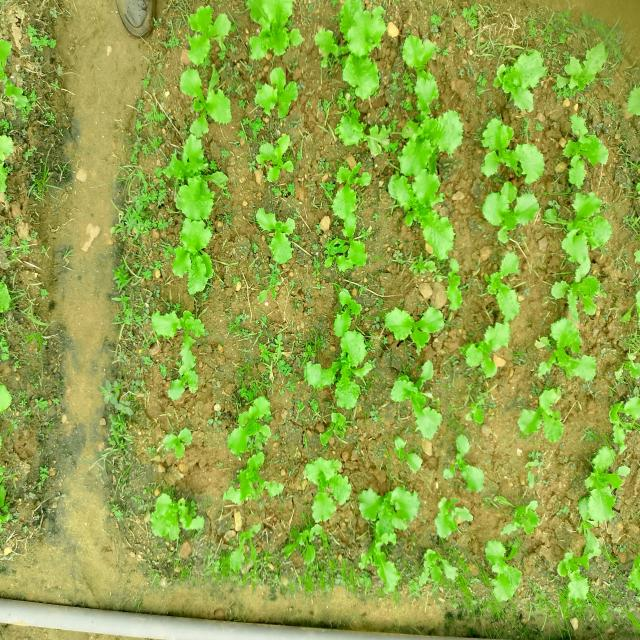Lettuce: (473, 114, 544, 183), (528, 312, 596, 383), (546, 254, 606, 324), (475, 178, 540, 242), (353, 481, 418, 544), (175, 2, 237, 68), (174, 62, 233, 131), (218, 394, 278, 460), (299, 453, 354, 523), (243, 0, 303, 64), (556, 111, 610, 182), (511, 385, 569, 448), (142, 487, 208, 542), (379, 300, 447, 352), (222, 451, 286, 506), (494, 48, 548, 113), (248, 204, 301, 264), (251, 64, 302, 120), (439, 435, 488, 493), (430, 494, 474, 540), (622, 57, 640, 126)
